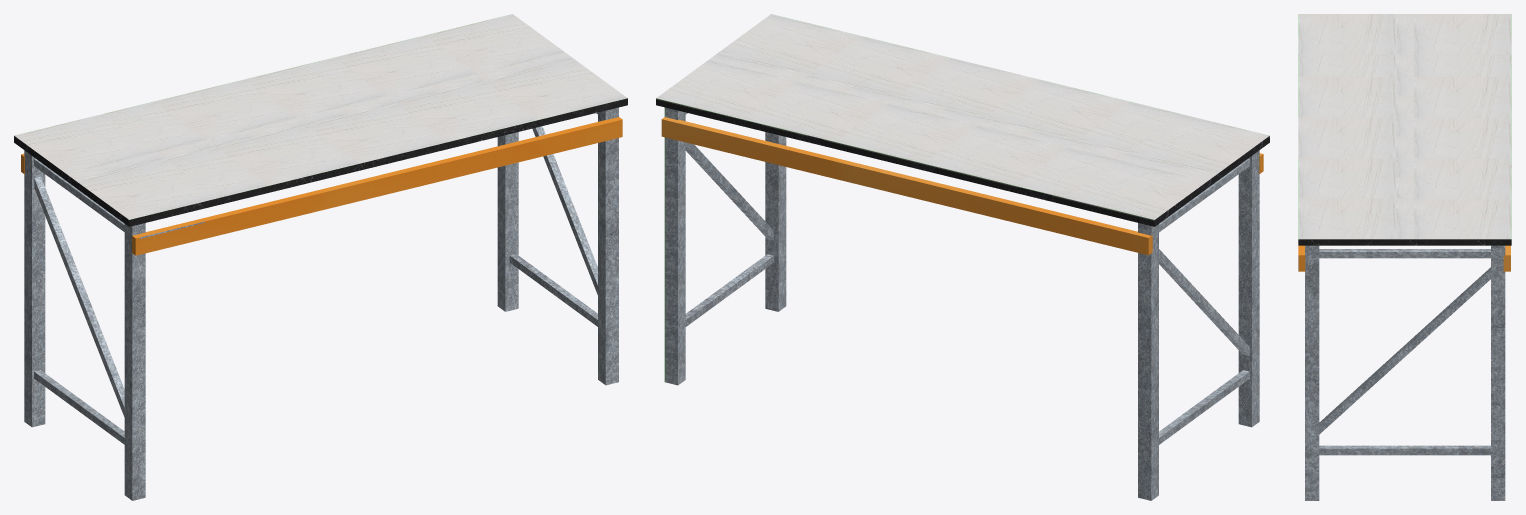
The model's file is tafel 1.fbx.
3 renders of one model, left to right at view 1: azimuth 30°, elevation 25°; view 2: azimuth 150°, elevation 25°; view 3: azimuth 270°, elevation 25°, orthographic. The views are drawn at different scales.
Parts seen in each view (by area): view 1: pasted__pCube2; view 2: pasted__pCube2; view 3: pasted__pCube2.
Part boxes in pixels (bbox=[...]): pasted__pCube2: bbox=[14, 14, 627, 500]; pasted__pCube2: bbox=[656, 14, 1269, 500]; pasted__pCube2: bbox=[1298, 14, 1511, 500].
Bounding box in the file's own units: 150 × 81.98 × 60.03.
